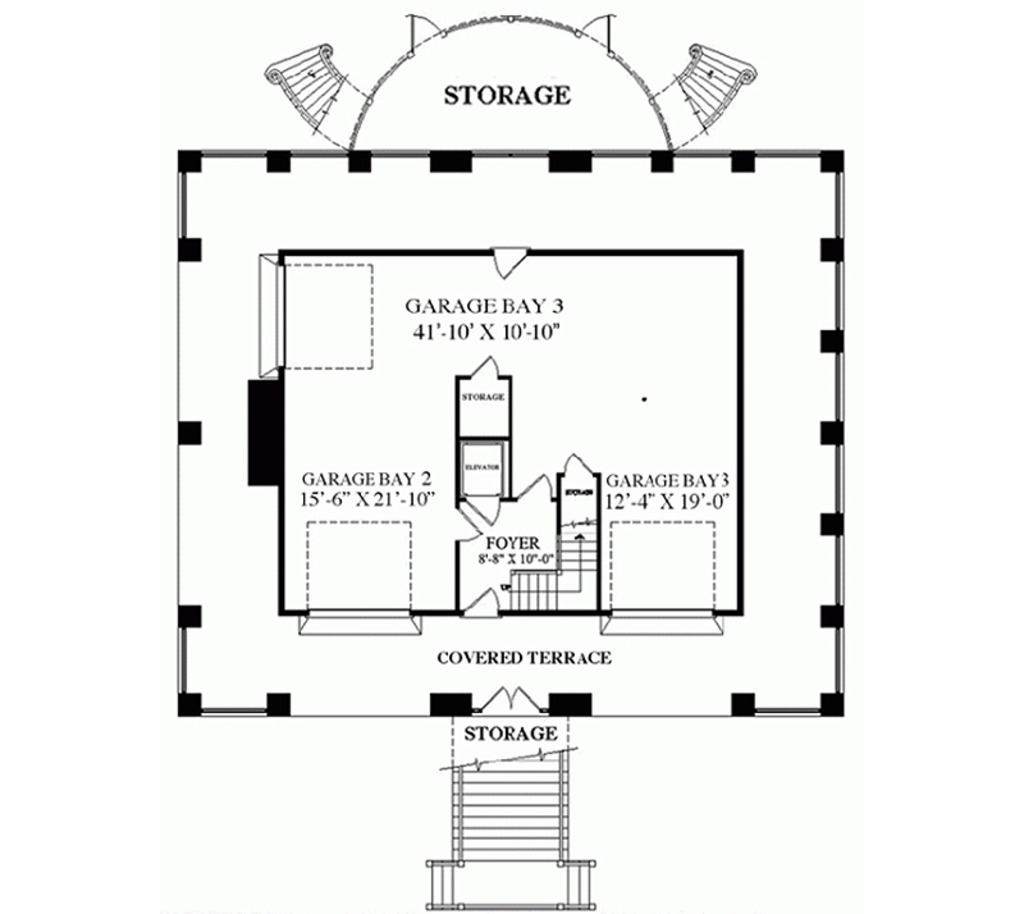door: (481, 683, 545, 720), (487, 246, 539, 278), (459, 587, 501, 624), (458, 491, 502, 526), (508, 474, 552, 507), (559, 448, 595, 486), (467, 354, 497, 380)
stairs: (420, 747, 599, 914), (498, 513, 601, 613), (260, 35, 354, 131), (673, 36, 760, 130)
